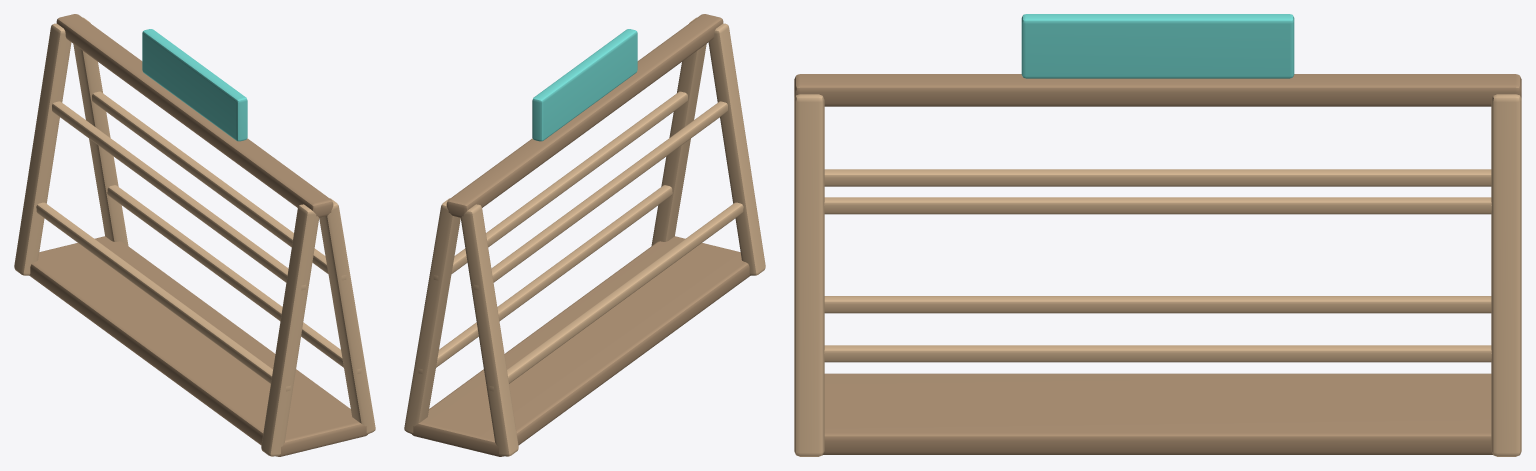
File: BoardRack.fbx
The picture shows the model from 3 angles, left to right: view 1: azimuth 30°, elevation 25°; view 2: azimuth 150°, elevation 25°; view 3: azimuth 270°, elevation 25°; orthographic projection. The views are drawn at different scales.
Visible parts, largest first — view 1: BoardRack; view 2: BoardRack; view 3: BoardRack.
Boxes of the visible parts, x1=… form: BoardRack: x1=14, y1=14, x2=375, y2=456; BoardRack: x1=404, y1=14, x2=765, y2=456; BoardRack: x1=794, y1=14, x2=1521, y2=456.
Size of the model in its own units: 0.5762 by 1.49 by 2.4.
